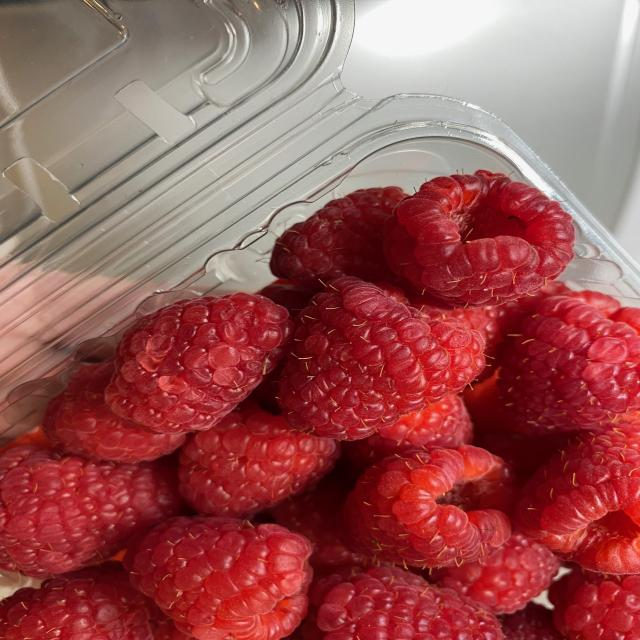raspberries: (6, 190, 634, 634)
